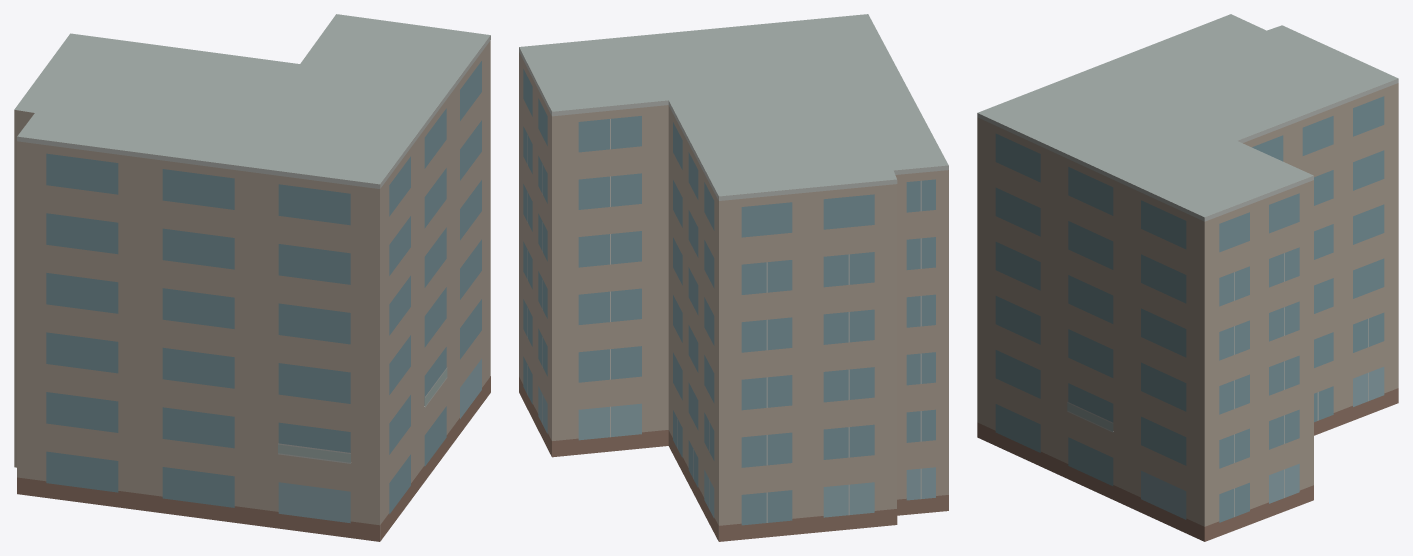
The model's file is survey-upis-32526171.glb.
3 views of the same model, side by side, from view 1: azimuth 30°, elevation 25°; view 2: azimuth 150°, elevation 25°; view 3: azimuth 270°, elevation 25° (orthographic). The views are drawn at different scales.
Parts seen in each view (by area): view 1: survey-upis-32526171.tmp; view 2: survey-upis-32526171.tmp; view 3: survey-upis-32526171.tmp.
Part boxes in pixels (x1,y1,x2,y2): survey-upis-32526171.tmp: (14, 14, 490, 541); survey-upis-32526171.tmp: (519, 14, 948, 541); survey-upis-32526171.tmp: (977, 14, 1398, 541).
Bounding box in the file's own units: 24.61 × 18.3 × 21.55.
